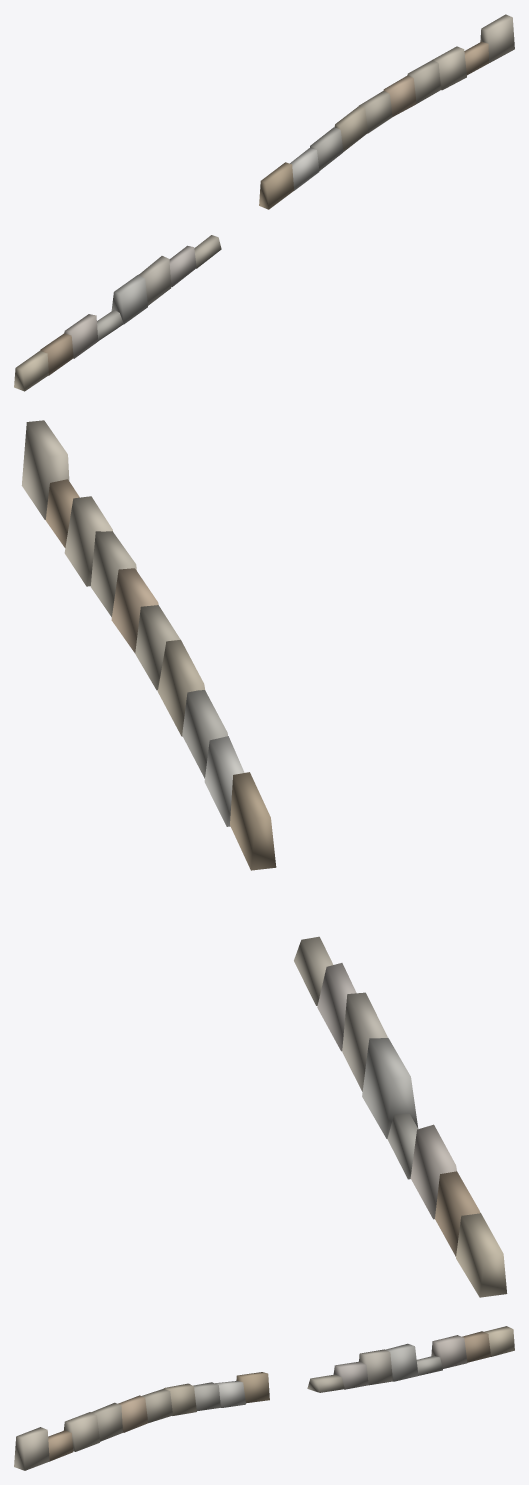
Rendered from farm_-2_0_far.glb.
3 views of the same model, one above another, from view 1: azimuth 90°, elevation 25°; view 2: azimuth 150°, elevation 25°; view 3: azimuth 270°, elevation 25° (orthographic). The views are drawn at different scales.
Visible parts, largest first — view 1: geometry_0; view 2: geometry_0; view 3: geometry_0.
Part boxes in pixels (<box>): geometry_0: <box>14,14,514,391</box>; geometry_0: <box>21,420,507,1297</box>; geometry_0: <box>14,1326,514,1470</box>.
Bounding box in the file's own units: 23.62 × 6.68 × 21.25.
